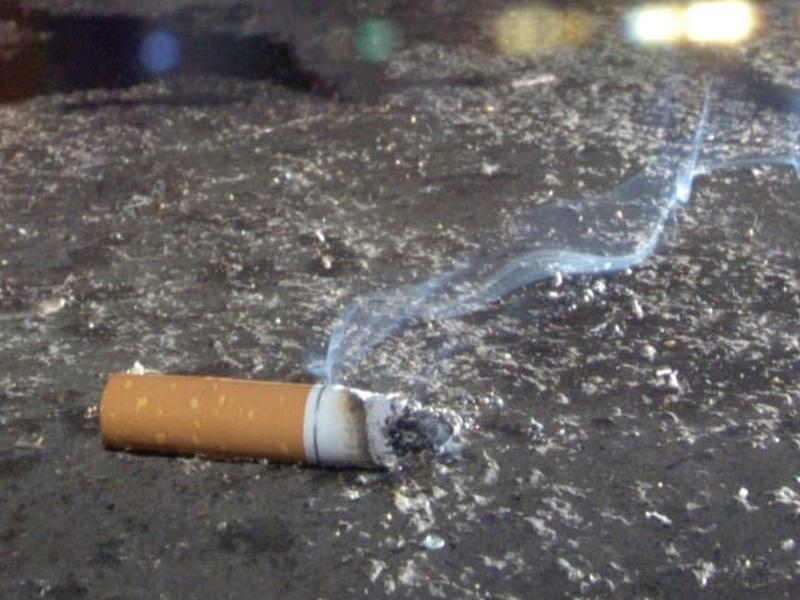burned_cigarette: (94, 369, 464, 478)
